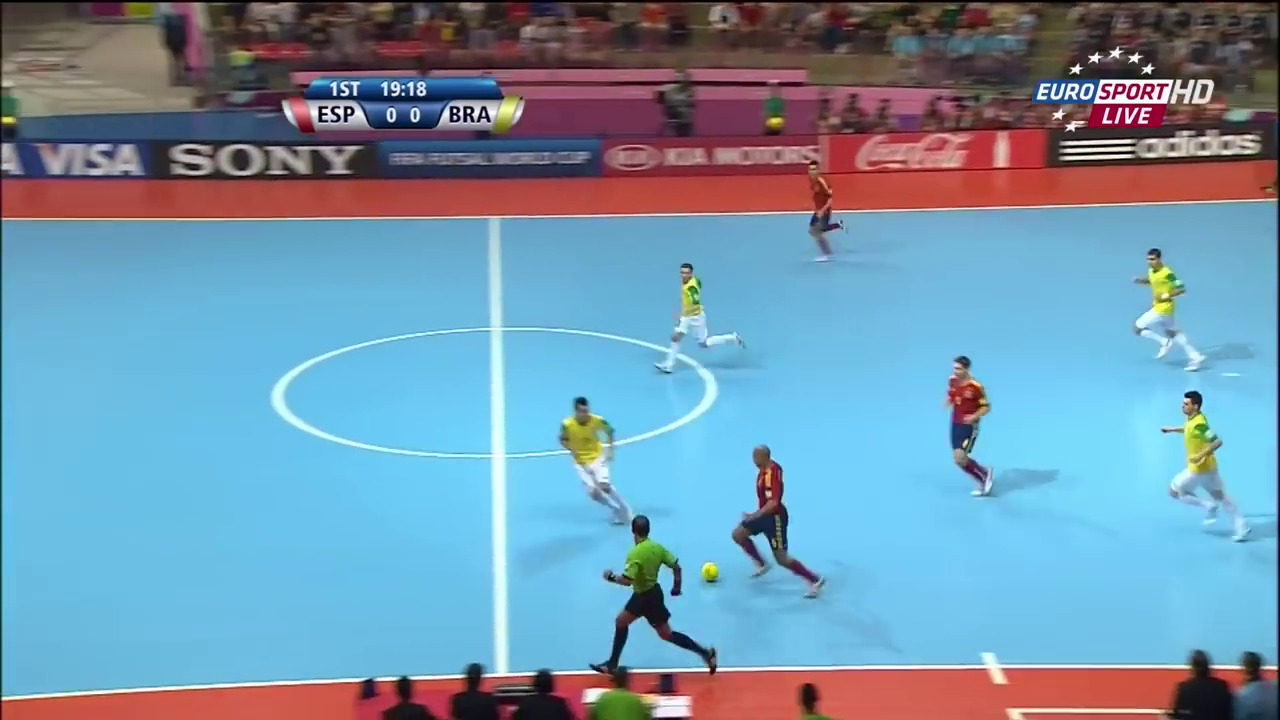ball: (700, 560, 719, 586)
person: (724, 445, 827, 598), (1155, 390, 1253, 545), (547, 393, 631, 522), (1126, 242, 1205, 375), (662, 265, 744, 372), (937, 358, 996, 494), (796, 160, 848, 262)
